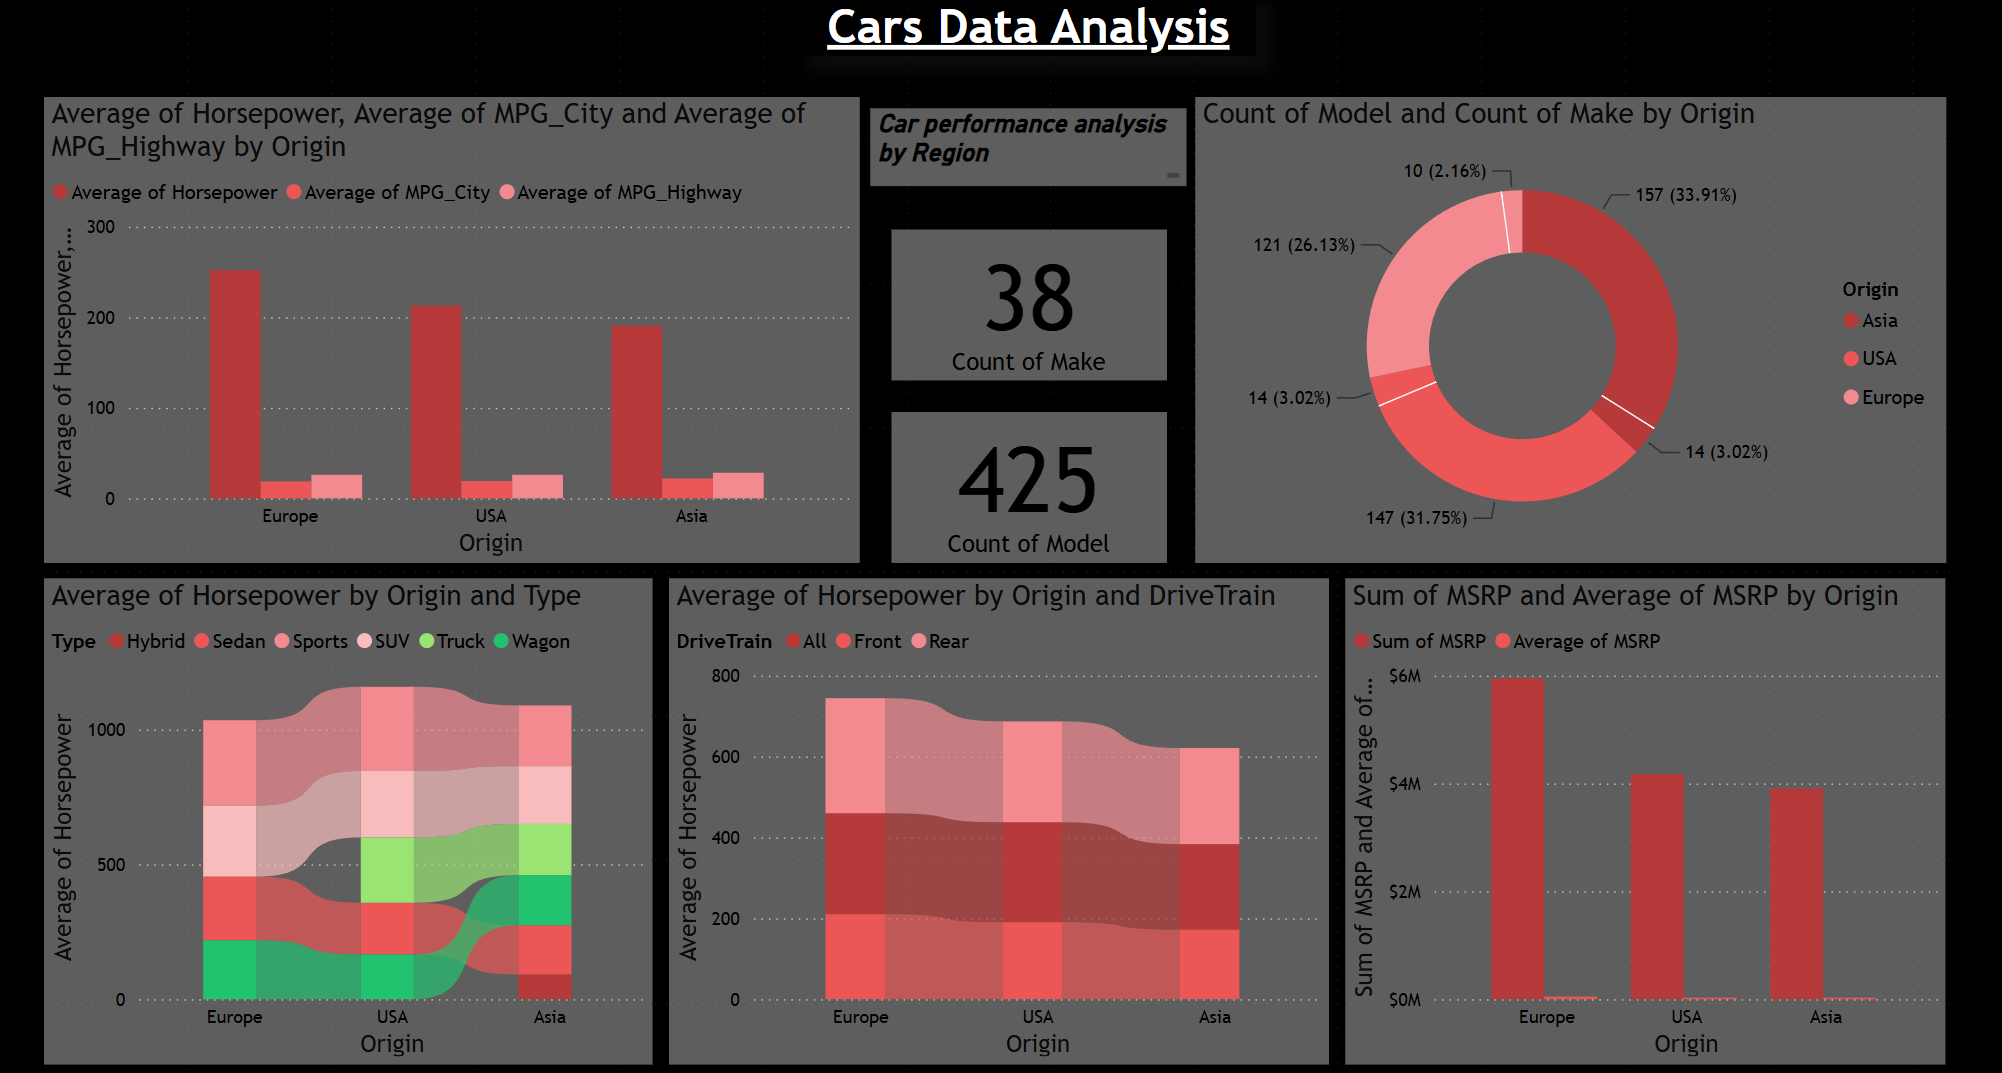

This screenshot's page, from the dashboard's own definition file:
{"tool":"powerbi","page":{"name":"Page 1","canvas":[1280,720],"ordinal":0},"visuals":[{"type":"textbox","title":"Cars Data Analysis","box":[505.9,0,303,39.2],"z":0},{"type":"clusteredColumnChart","fields":{"Category":["CARS.Origin"],"Y":["Avg(CARS.Horsepower)","Avg(CARS.MPG_City)","Avg(CARS.MPG_Highway)"]},"box":[0,66.8,545.1,311.4],"z":1000},{"type":"ribbonChart","fields":{"Category":["CARS.Origin"],"Y":["Avg(CARS.Horsepower)"],"Series":["CARS.Type"]},"box":[0,388.4,406.2,324.4],"z":2000},{"type":"donutChart","fields":{"Category":["CARS.Origin"],"Y":["Count(CARS.Model)","Count(CARS.Make)"]},"box":[768.9,66.7,501.3,311.1],"z":3000},{"type":"clusteredColumnChart","fields":{"Category":["CARS.Origin"],"Y":["Sum(CARS.MSRP)","Avg(CARS.MSRP)"]},"box":[869.3,388.4,400.9,324.4],"z":4000},{"type":"card","fields":{"Values":["Count(CARS.Make)"]},"box":[566,155.3,183.7,101],"z":5000},{"type":"card","fields":{"Values":["Count(CARS.Model)"]},"box":[566,277.1,183.7,101],"z":6000},{"type":"ribbonChart","fields":{"Category":["CARS.Origin"],"Y":["Avg(CARS.Horsepower)"],"Series":["CARS.DriveTrain"]},"box":[417.8,388.4,440.9,324.4],"z":7000},{"type":"actionButton","box":[0,0,100,40],"z":8000},{"type":"textbox","title":"Car performance analysis by Region","box":[551.8,74.3,211.2,51.8],"z":9000}]}

Visuals, with their boxes on the page's 1280x720 design canvas (x1, y1, x2, y2). These are canvas units, not pixel positions in the 2002x1073 screenshot, which may show the page scaled, cropped or inside an application window:
"Cars Data Analysis" textbox: [506, 0, 809, 39]
clusteredColumnChart - CARS.Origin x Avg(CARS.Horsepower): [0, 67, 545, 378]
ribbonChart - CARS.Origin x Avg(CARS.Horsepower): [0, 388, 406, 713]
donutChart - CARS.Origin x Count(CARS.Model): [769, 67, 1270, 378]
clusteredColumnChart - CARS.Origin x Sum(CARS.MSRP): [869, 388, 1270, 713]
card - Count(CARS.Make): [566, 155, 750, 256]
card - Count(CARS.Model): [566, 277, 750, 378]
ribbonChart - CARS.Origin x Avg(CARS.Horsepower): [418, 388, 859, 713]
actionButton: [0, 0, 100, 40]
"Car performance analysis by Region" textbox: [552, 74, 763, 126]
